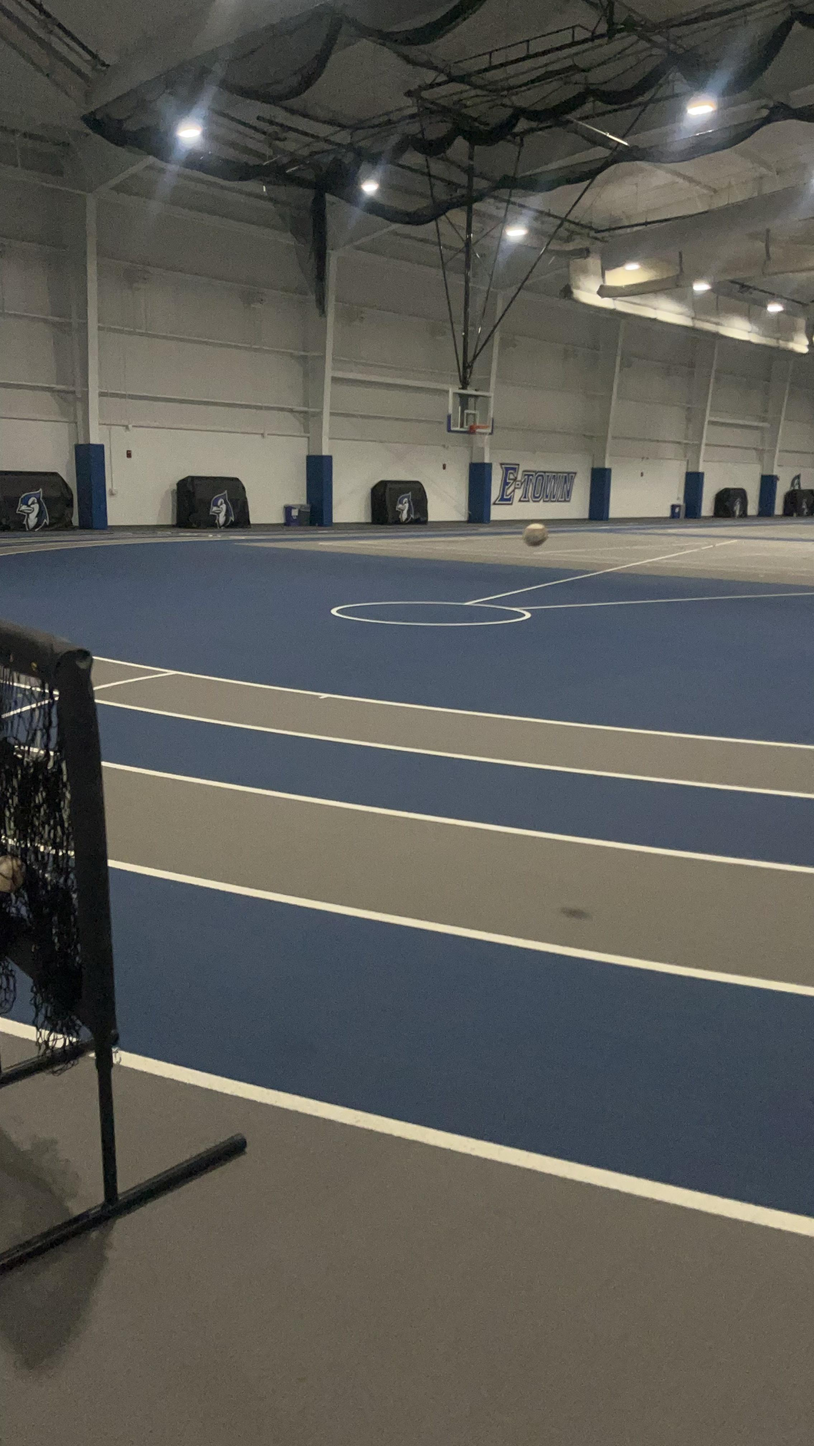Baseball: (512, 517, 558, 552), (0, 854, 26, 894)
